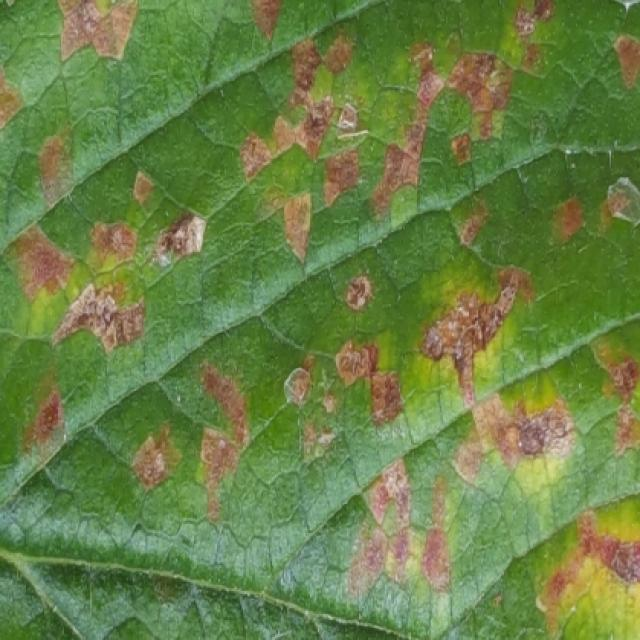Angular Leafspot: (0, 0, 638, 638)
